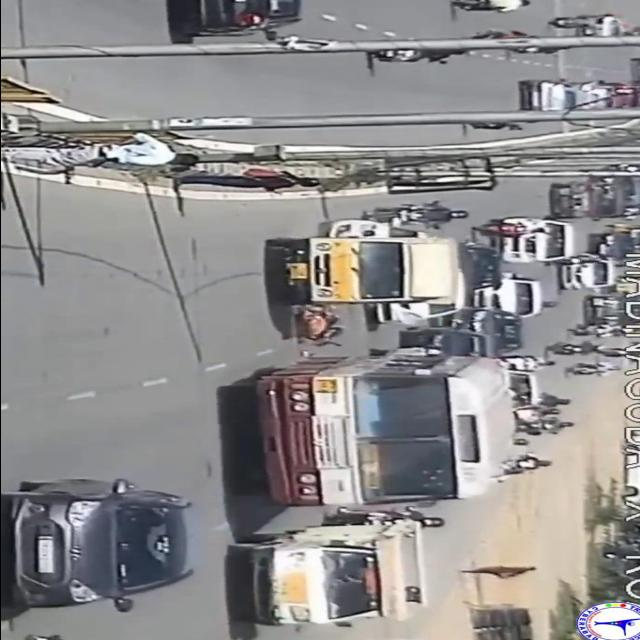accident: (227, 224, 525, 350)
non_accident: (480, 166, 640, 310), (494, 48, 640, 112)
